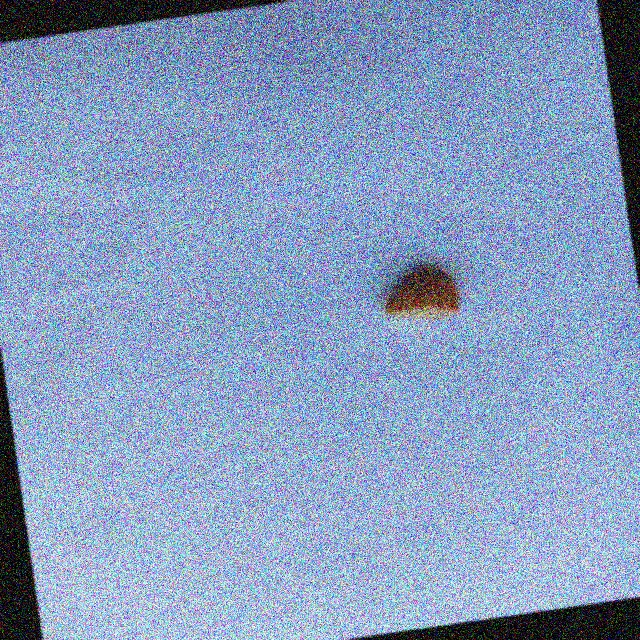grade4: (370, 258, 469, 332)
